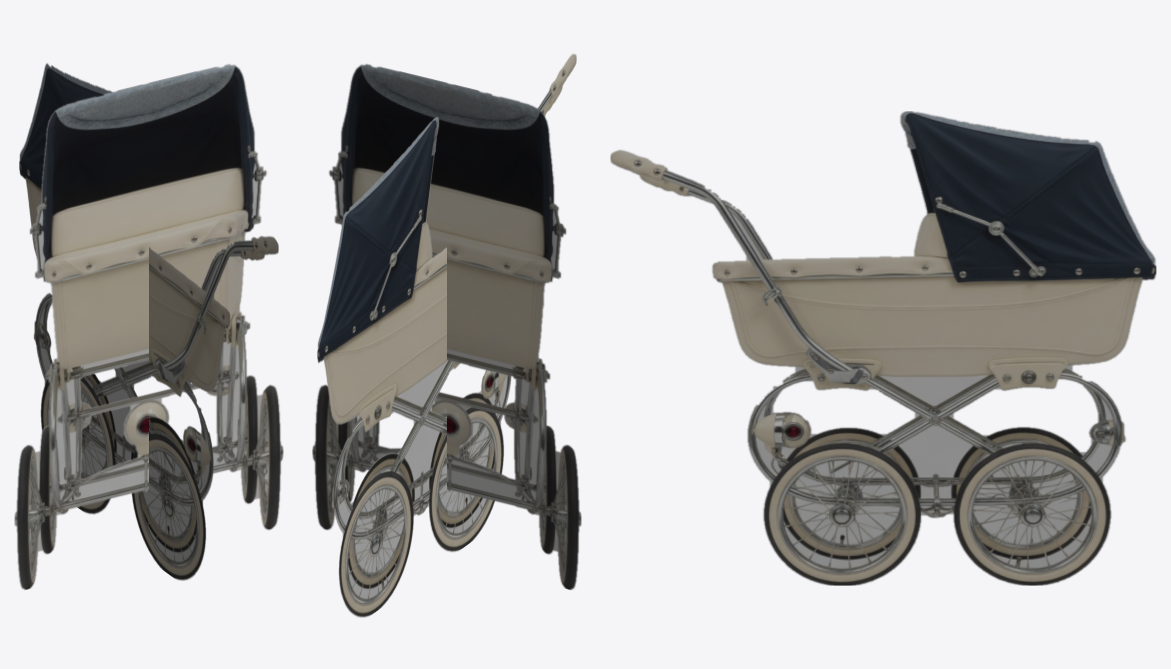
File: baby_stroller.glb
The picture shows the model from 3 angles, left to right: view 1: azimuth 30°, elevation 25°; view 2: azimuth 150°, elevation 25°; view 3: azimuth 270°, elevation 25°; orthographic projection. The views are drawn at different scales.
Visible parts, largest first — view 1: baby_stroller; view 2: baby_stroller; view 3: baby_stroller.
Part boxes in pixels (x1,y1,x2,y2): baby_stroller: [14, 63, 283, 589]; baby_stroller: [312, 53, 581, 617]; baby_stroller: [610, 111, 1156, 585].
Bounding box in the file's own units: 0.5987 × 1.01 × 0.9987.
Materials: 1 (1 with a texture image).
